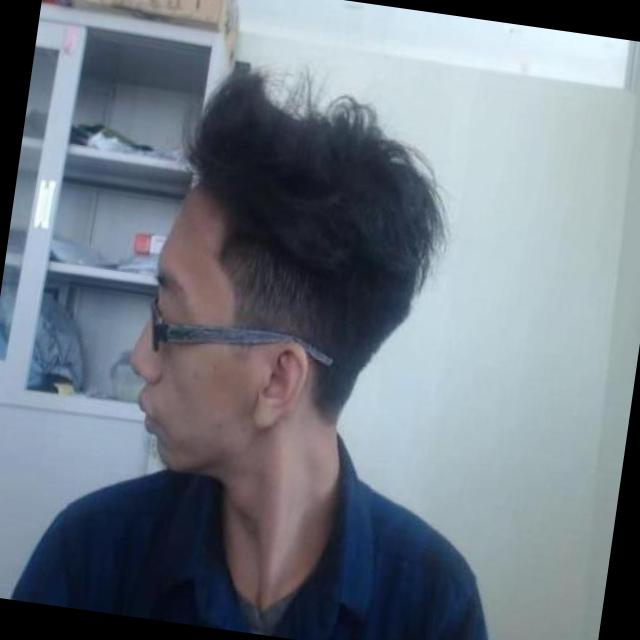bareface: (52, 62, 453, 494)
